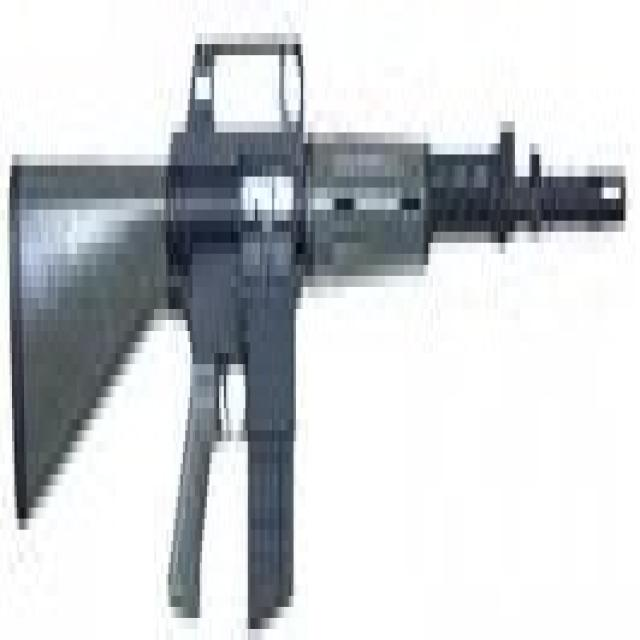rifle: (6, 29, 631, 640)
